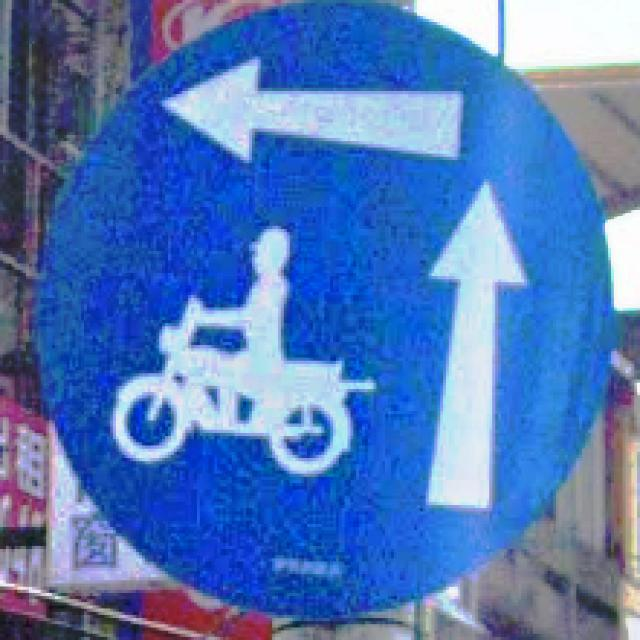twostageturn: (32, 0, 620, 621)
